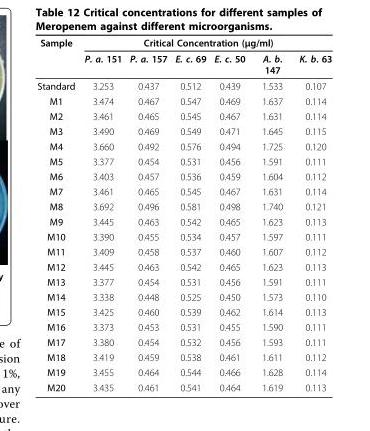table: (36, 36, 331, 392)
table column: (79, 36, 125, 392), (125, 36, 170, 392), (36, 36, 79, 392), (209, 36, 252, 392), (290, 36, 331, 392), (170, 36, 209, 392), (252, 36, 290, 392)
table column header: (36, 36, 331, 77)
table row: (36, 50, 331, 77), (36, 77, 331, 93), (36, 258, 331, 274), (36, 93, 331, 108), (36, 108, 331, 123), (36, 123, 331, 138), (36, 138, 331, 153), (36, 153, 331, 168), (36, 168, 331, 183), (36, 183, 331, 198), (36, 198, 331, 213), (36, 213, 331, 228), (36, 228, 331, 243), (36, 243, 331, 258), (36, 274, 331, 289), (36, 289, 331, 304), (36, 304, 331, 319), (36, 319, 331, 334), (36, 334, 331, 349), (36, 349, 331, 364), (36, 364, 331, 379), (36, 36, 331, 50), (36, 379, 331, 392)
table spanning cell: (79, 36, 331, 50), (36, 36, 79, 77)
